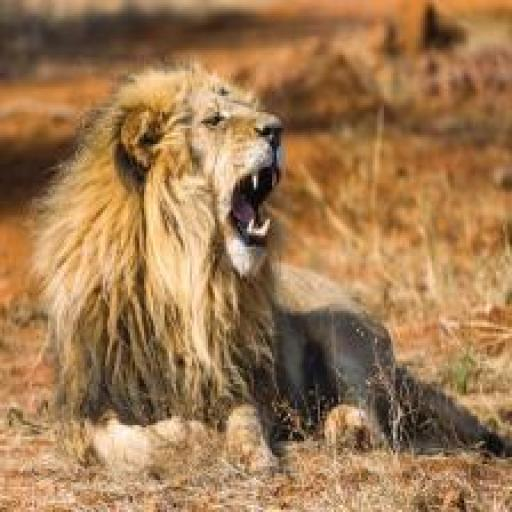lion: (20, 57, 511, 478)
